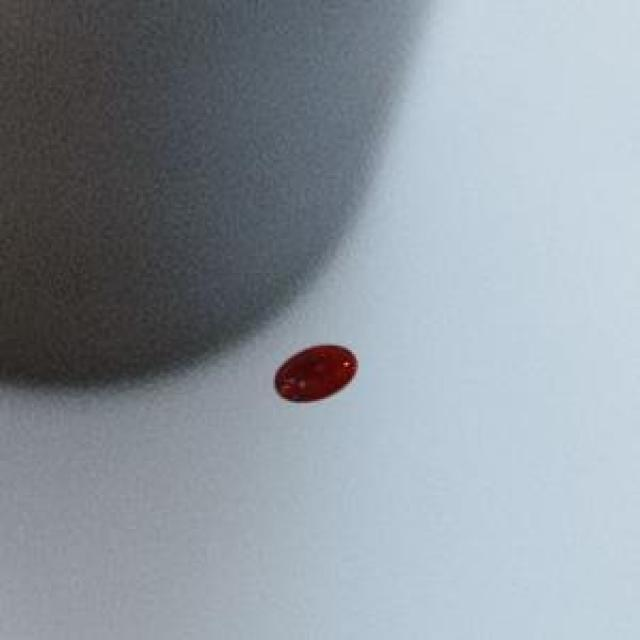Medicol: (266, 334, 362, 412)
